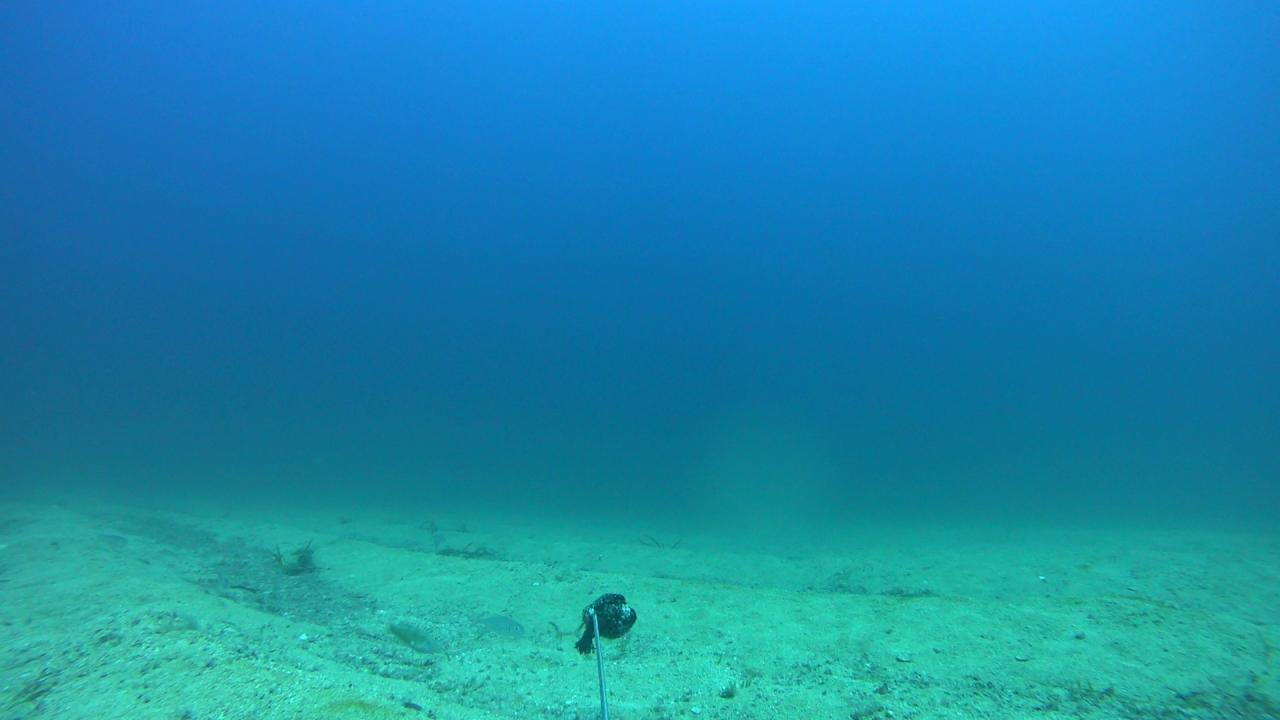pagellus: (471, 611, 526, 640)
